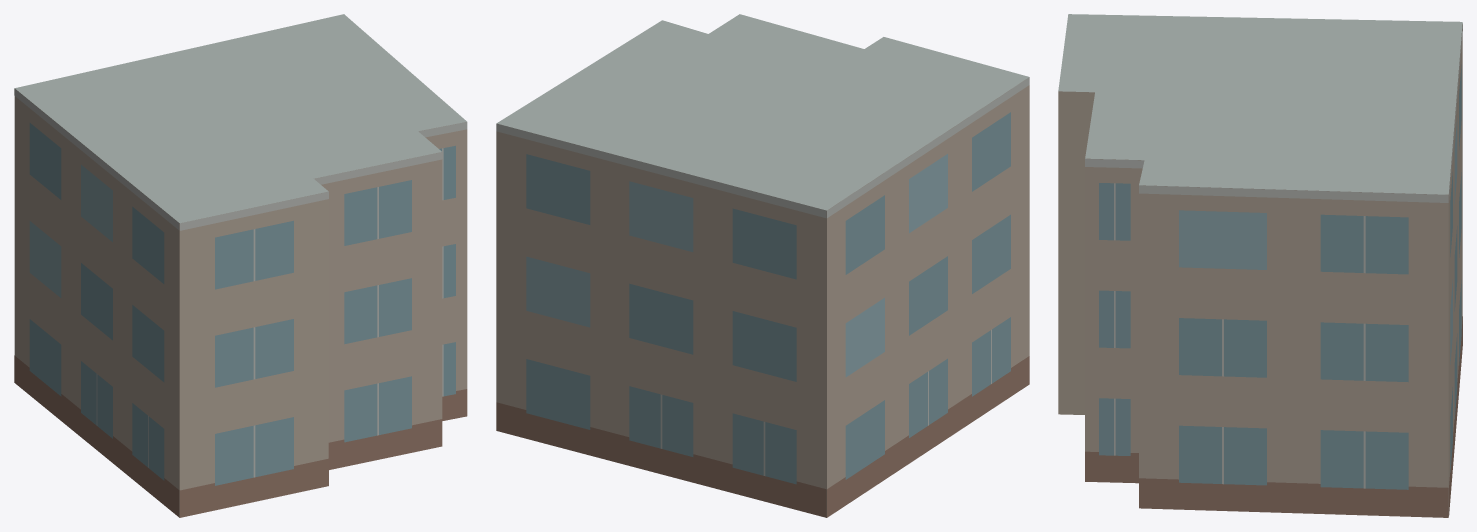
Rendered from survey-upis-32804595.glb.
3 renders of one model, left to right at view 1: azimuth 30°, elevation 25°; view 2: azimuth 150°, elevation 25°; view 3: azimuth 270°, elevation 25°, orthographic. The views are drawn at different scales.
Parts seen in each view (by area): view 1: survey-upis-32804595.tmp; view 2: survey-upis-32804595.tmp; view 3: survey-upis-32804595.tmp.
Boxes of the visible parts, x1,y1,x2,y2 form: survey-upis-32804595.tmp: (14,14,467,517); survey-upis-32804595.tmp: (496,14,1029,517); survey-upis-32804595.tmp: (1058,14,1462,517).
Bounding box in the file's own units: 11.41 × 9.5 × 10.79.
